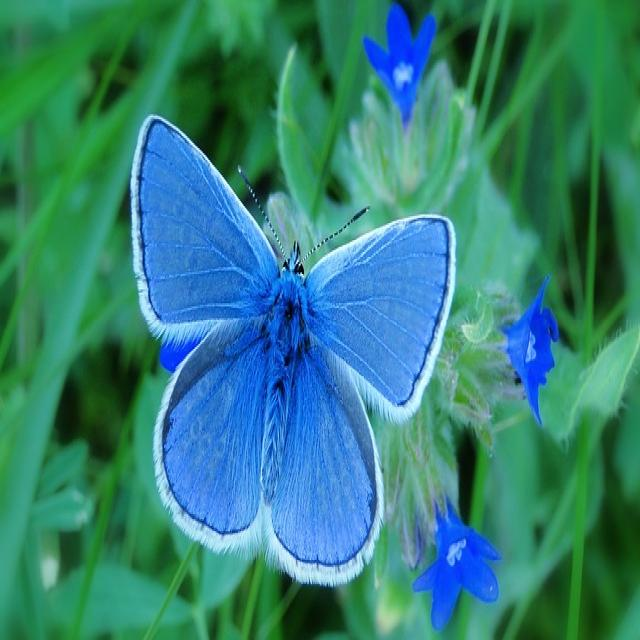butterfly: (128, 111, 456, 587)
